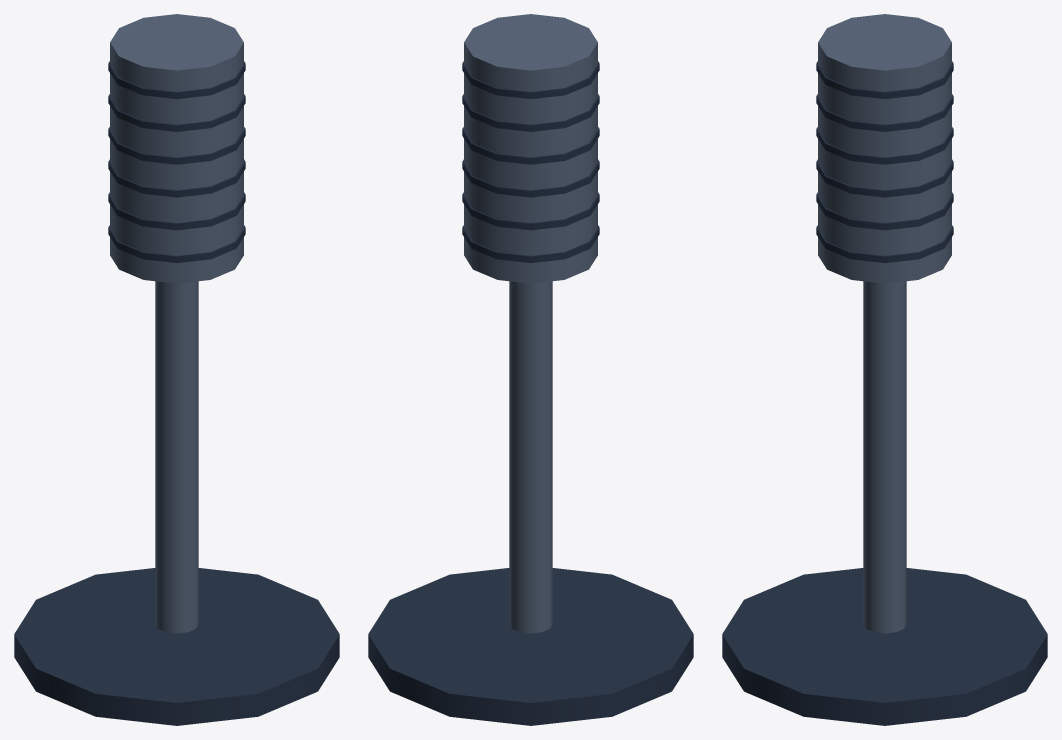
Rendered from officeMicrophone.glb.
3 views of the same model, side by side, from view 1: azimuth 30°, elevation 25°; view 2: azimuth 150°, elevation 25°; view 3: azimuth 270°, elevation 25° (orthographic).
Bounding box in the file's own units: 0.18 × 0.375 × 0.18.
